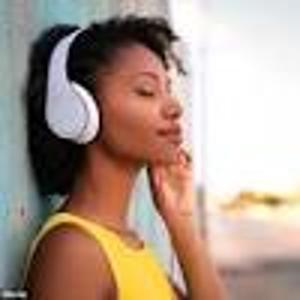Headphones: (43, 25, 102, 145)
